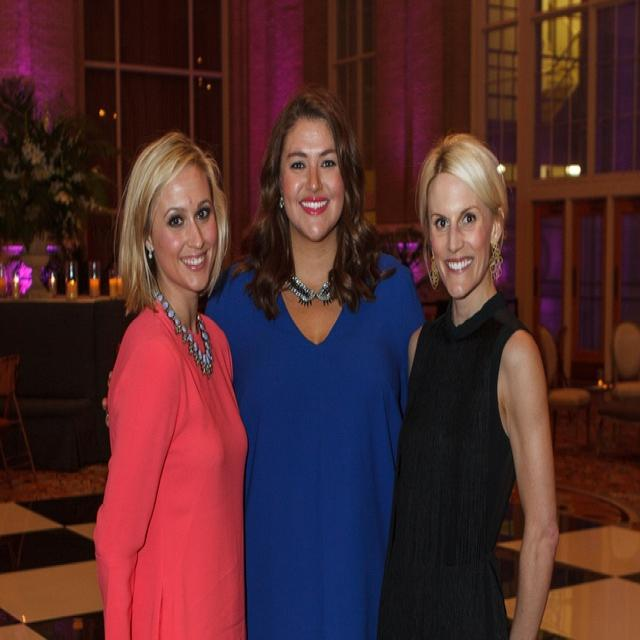body: (99, 83, 429, 640), (369, 127, 567, 638), (90, 127, 252, 638)
